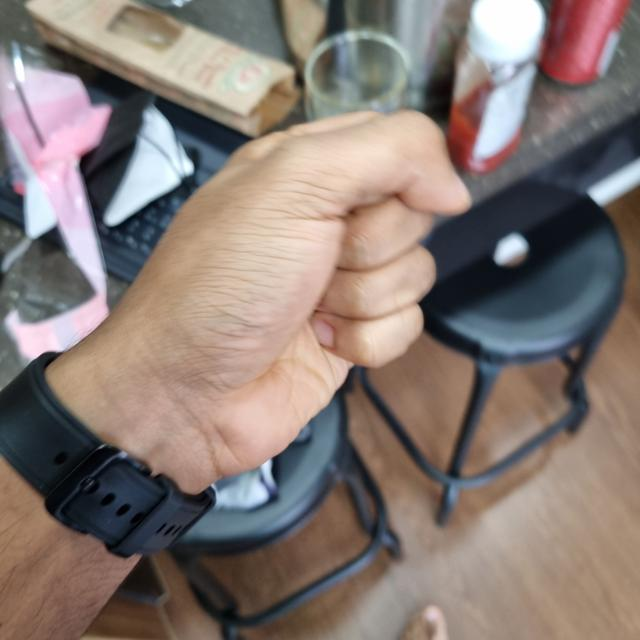Rock: (68, 108, 471, 478)
